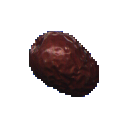gd: (18, 21, 121, 110)
